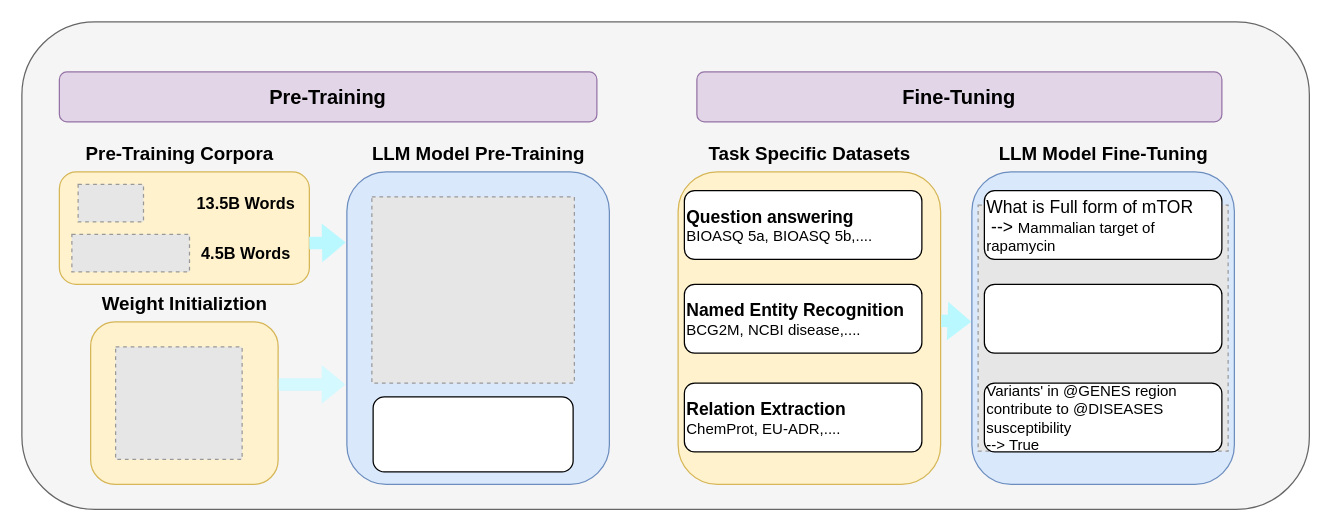
Image size: 1331x531. Some labels were removed from this diagram. Grey dashed boxes stand in for pictures. The centre of each missing label's shape, as x and y in pixels:
"Pre-training with bio-medical corpora" goes at point 472,434.
"The adult renal failure cause.. --> O O B I O...." goes at point 1102,318.
